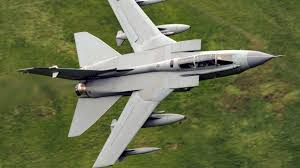fighter: (23, 1, 277, 167)
